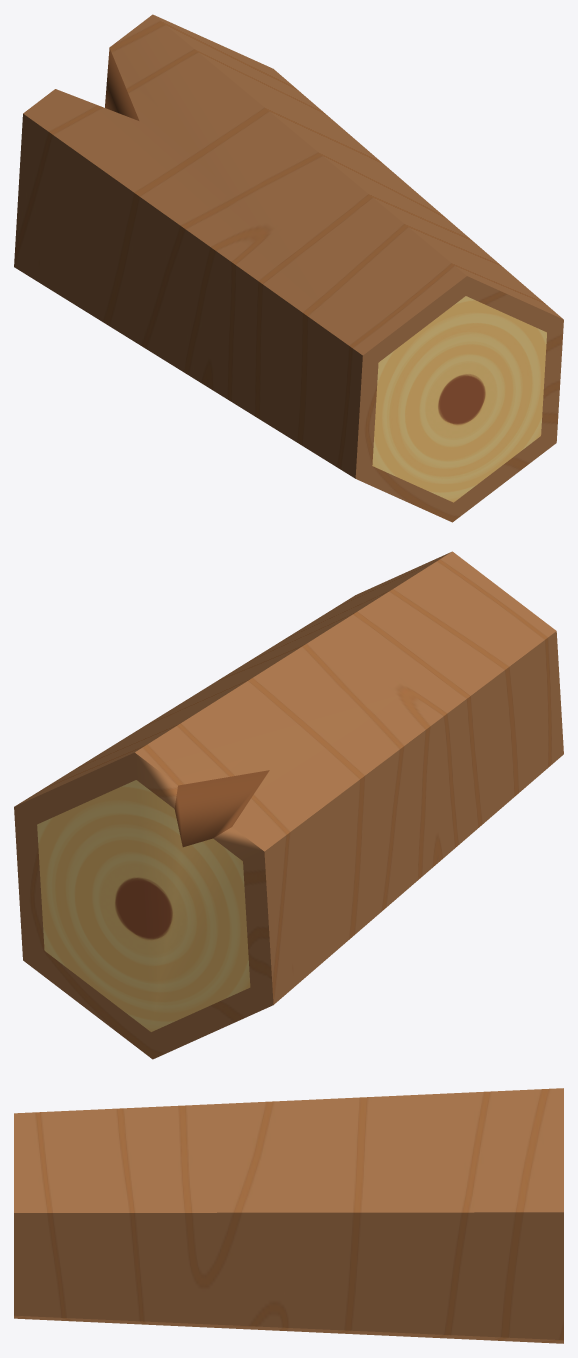
The model's file is Firewood.fbx.
3 renders of one model, top to bottom at view 1: azimuth 30°, elevation 25°; view 2: azimuth 150°, elevation 25°; view 3: azimuth 270°, elevation 25°, orthographic. The views are drawn at different scales.
Parts seen in each view (by area): view 1: Firewood; view 2: Firewood; view 3: Firewood.
Part boxes in pixels (<box>): Firewood: <box>14,14,563,522</box>; Firewood: <box>14,551,563,1059</box>; Firewood: <box>14,1088,563,1343</box>.
Bounding box in the file's own units: 43.88 × 48.91 × 92.56.
1 material, 1 textured.
